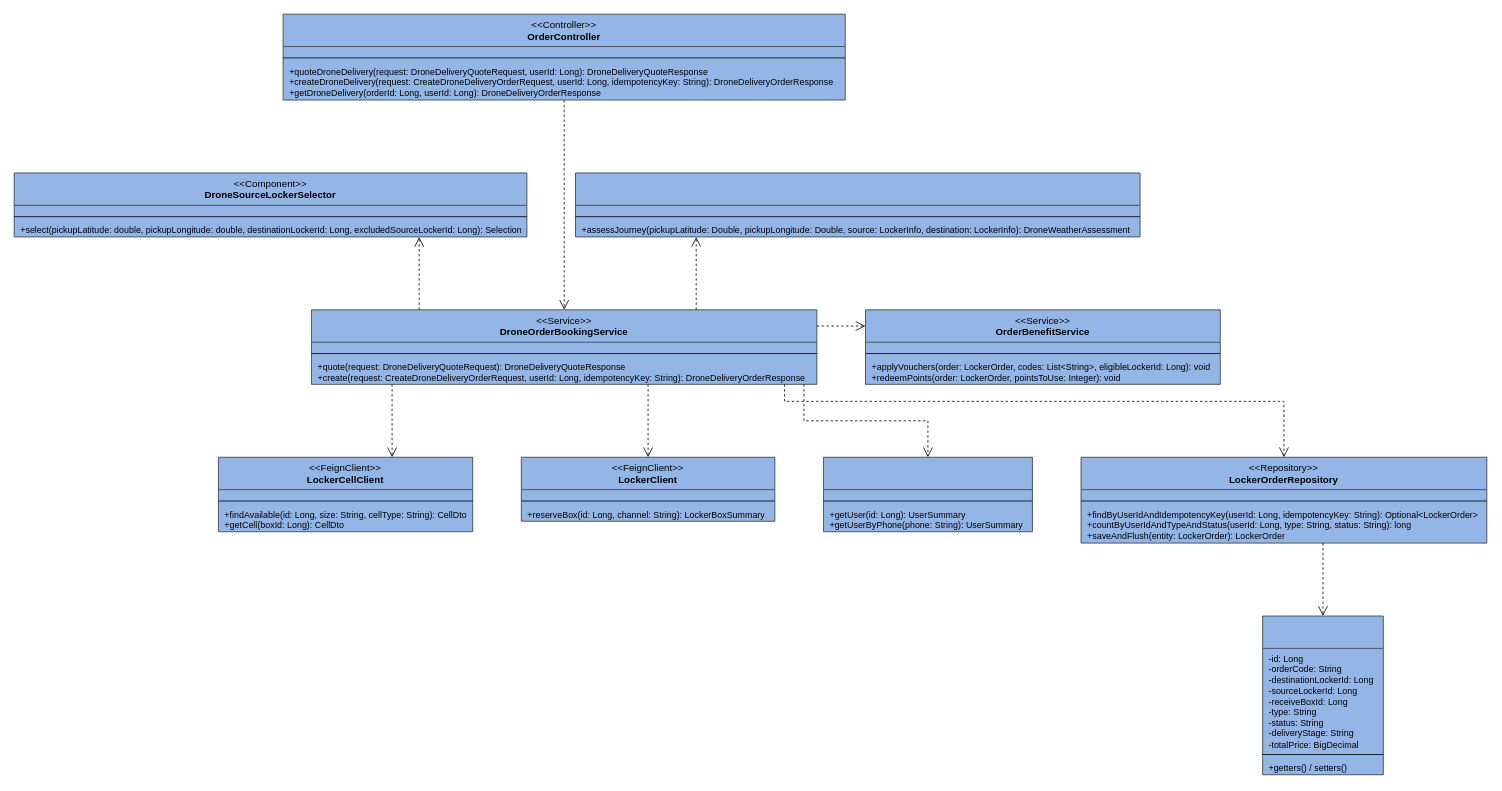
The diagram is 1502 pixels wide and 791 high, and some of its shapes have lost their labels. Here are the shapes that lost their labels. From the top down, the box of each, then its label:
(575, 172, 1140, 237): <<Service>> DroneWeatherService
(823, 456, 1032, 532): <<FeignClient>> UserClient
(1262, 615, 1383, 775): <<Entity>> LockerOrder
